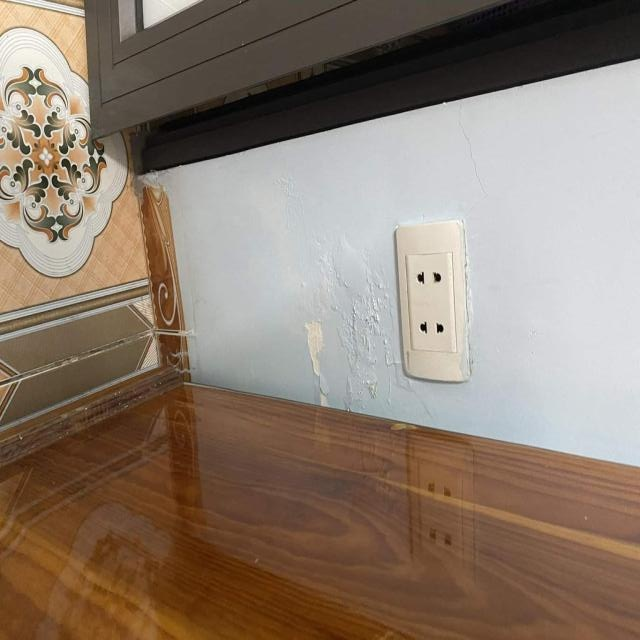outlet: (395, 218, 473, 383)
